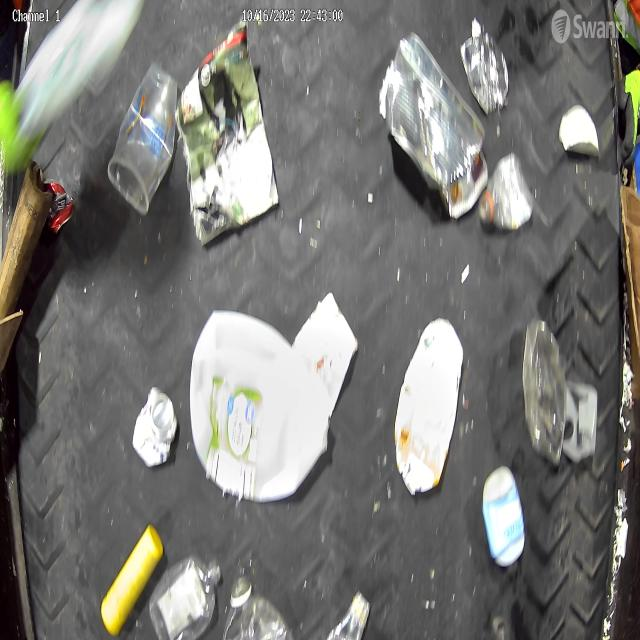can: (387, 29, 485, 191), (460, 35, 510, 115), (134, 384, 178, 470), (44, 179, 74, 234)
milk_jug: (192, 309, 331, 502), (395, 318, 461, 496)
plastic_bottle: (149, 550, 221, 640), (223, 574, 294, 640), (478, 152, 536, 232), (327, 591, 371, 640)
